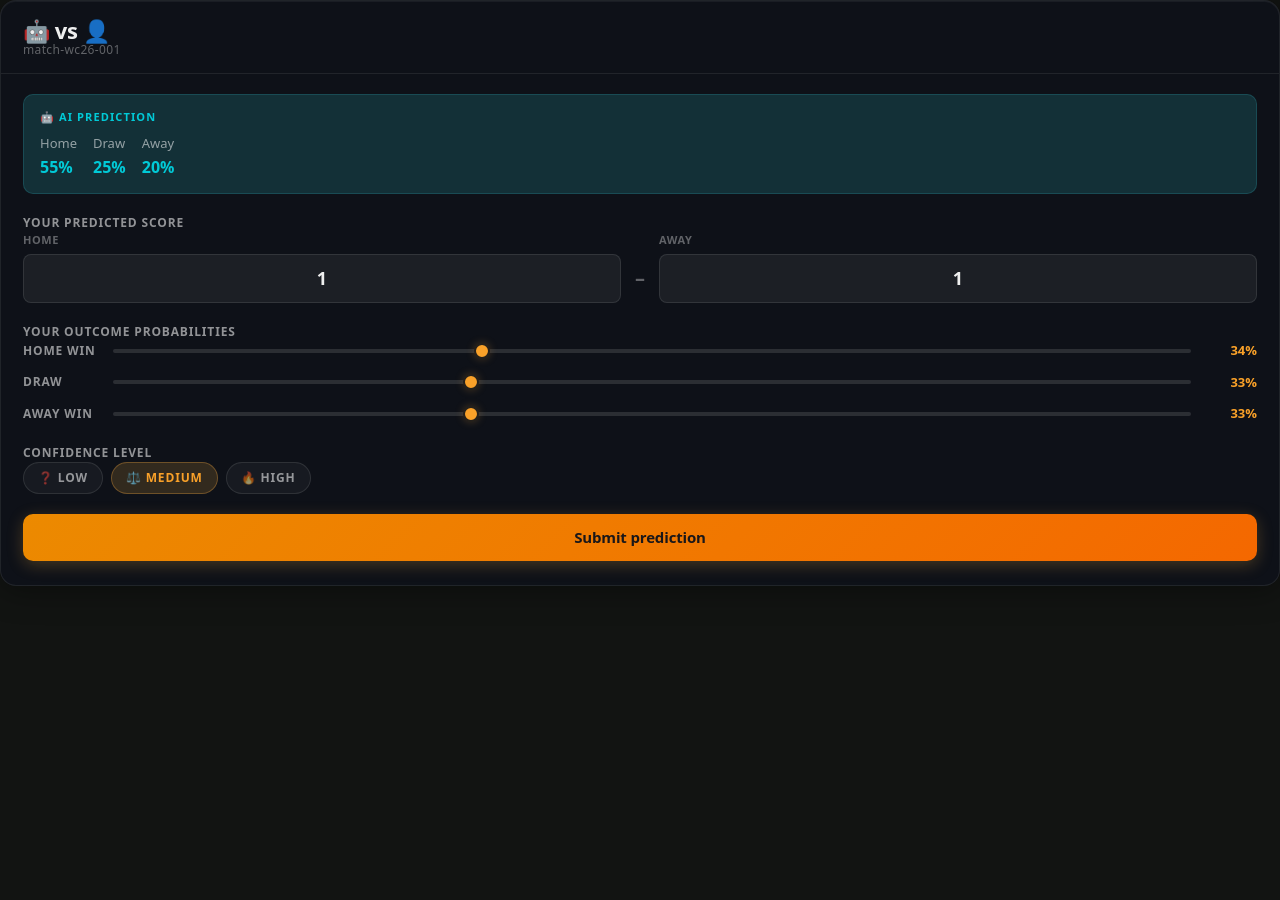
DuelCard — submit failure › clears previous error on a successful retry
Note: First attempt — fails
Click the button "Submit prediction": (640, 538) [23,514,1257,561]
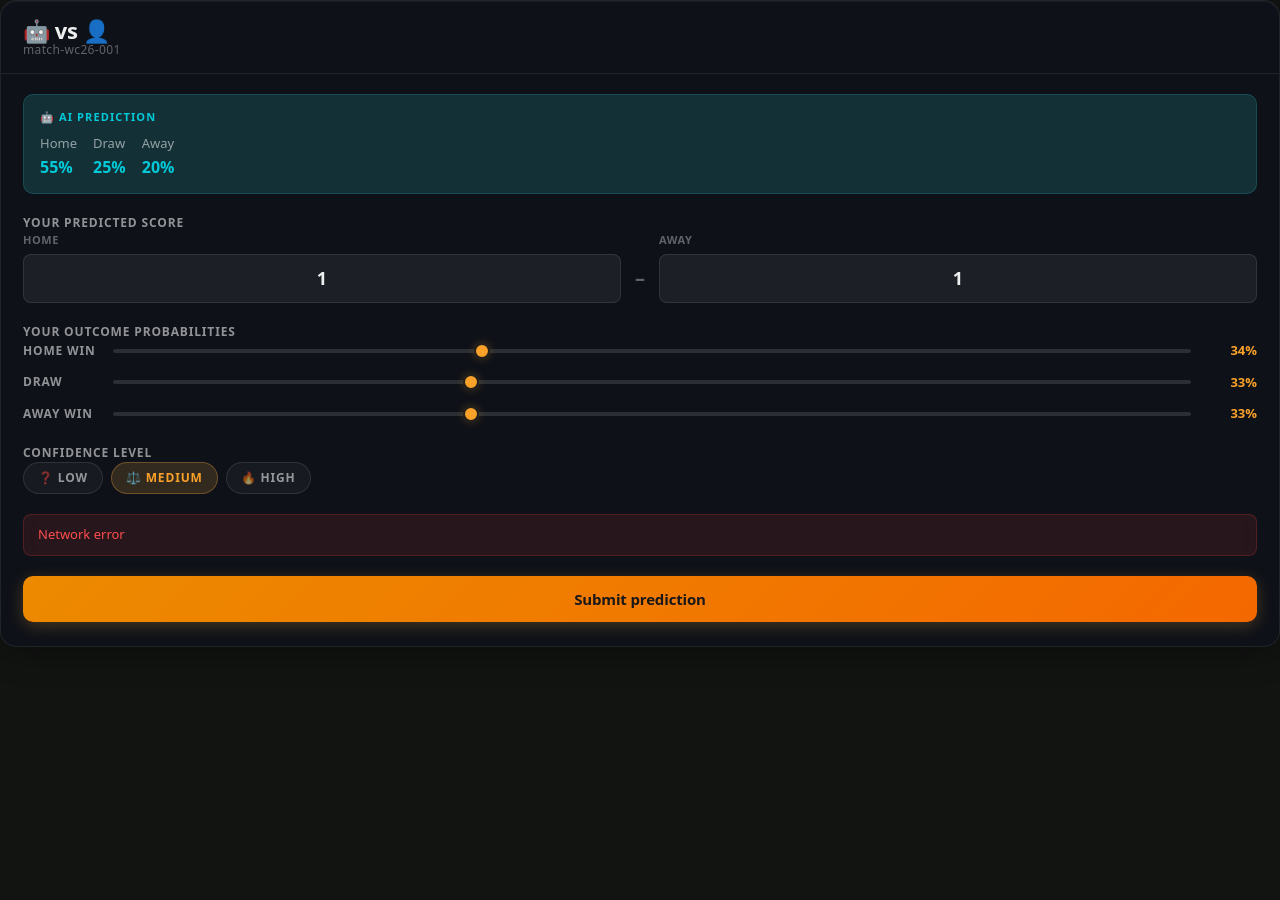
expect the message "Network error" is shown: met, box [23,514,1257,556]
Note: Second attempt — succeeds
Click the button "Submit prediction": (640, 599) [23,576,1257,622]
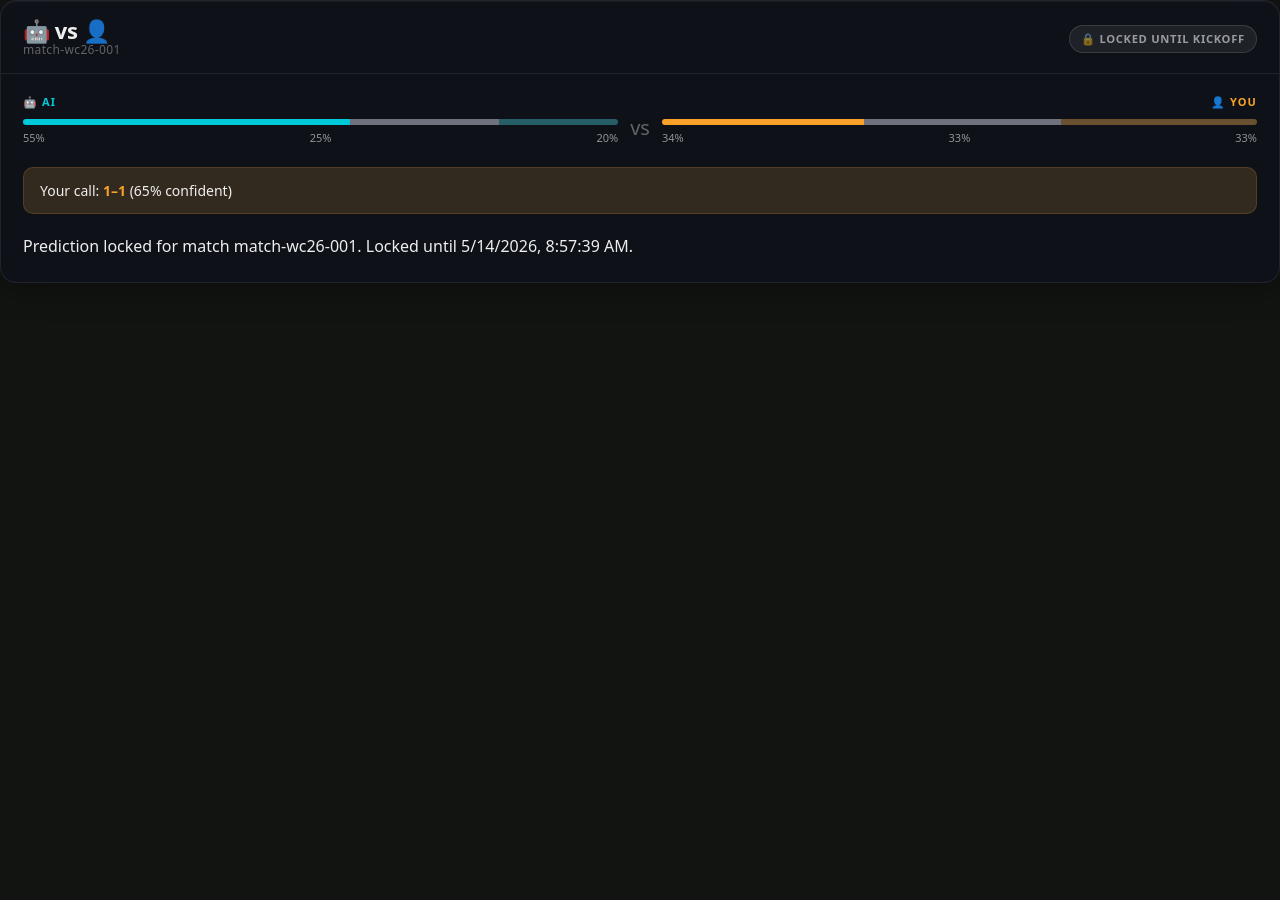
expect the form is gone: met
